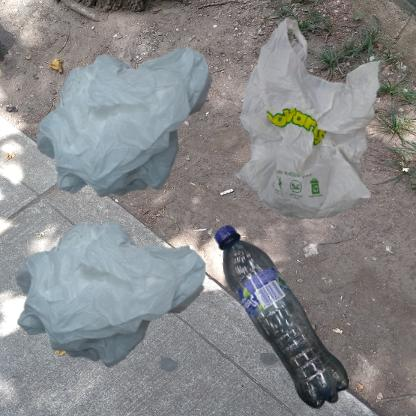bolsa: (10, 10, 296, 271), (213, 10, 416, 259), (10, 213, 216, 376)
botella: (213, 213, 358, 416)
